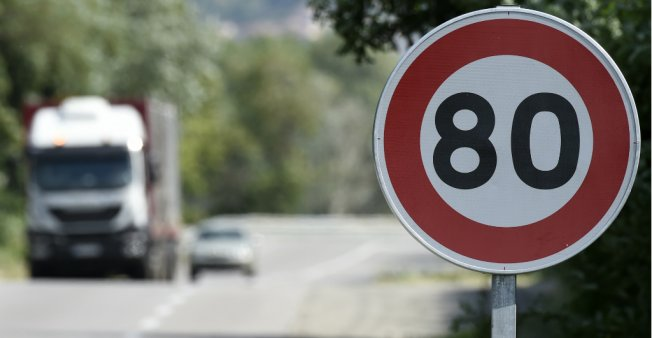Speed_limit_80km: (374, 9, 643, 271)
